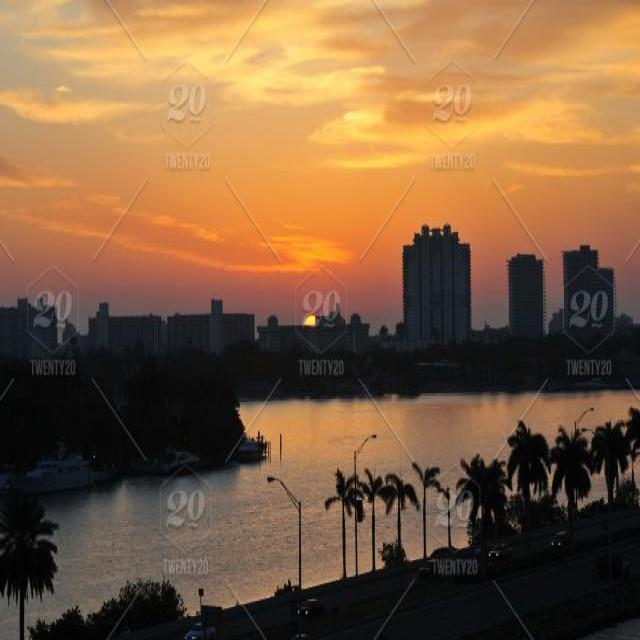other: (41, 12, 372, 102), (336, 108, 582, 152), (280, 236, 356, 268), (302, 308, 315, 329)
